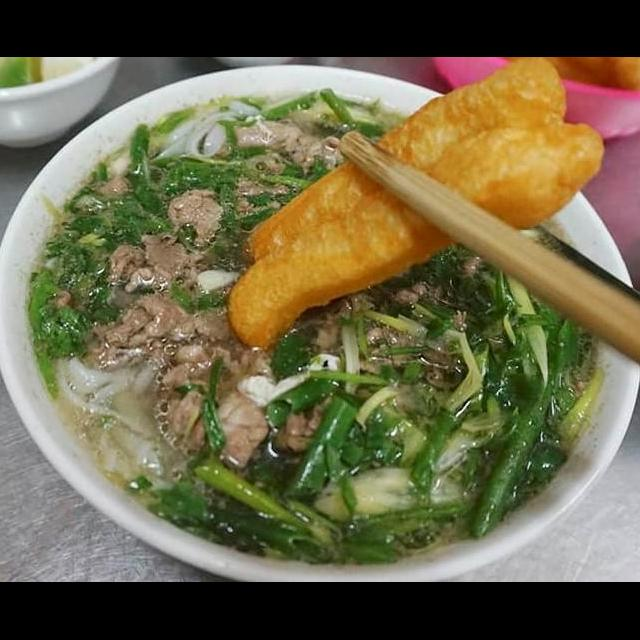banh pho: (48, 348, 187, 500), (140, 90, 266, 170)
pho bo: (0, 106, 640, 582)
thit bo: (70, 228, 233, 374), (156, 336, 284, 478), (222, 111, 356, 180), (157, 172, 231, 256)
